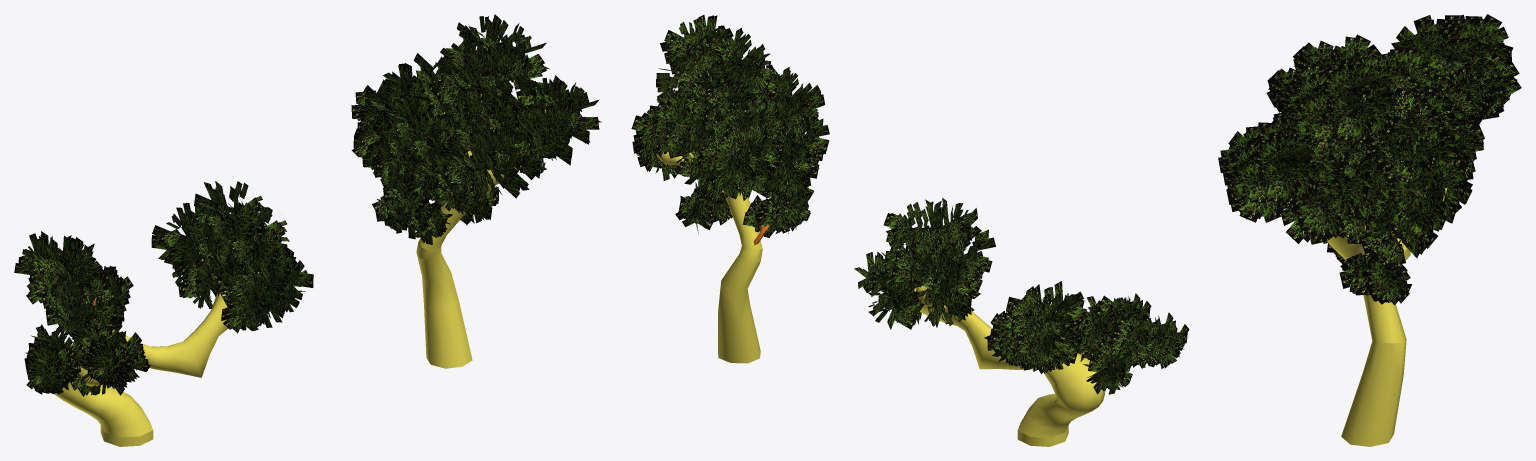
The model's file is 6_Arboles_Particulas_Multicolor.fbx.
3 views of the same model, side by side, from view 1: azimuth 30°, elevation 25°; view 2: azimuth 150°, elevation 25°; view 3: azimuth 270°, elevation 25° (orthographic). The views are drawn at different scales.
Visible parts, largest first — view 1: 100_Verde_Tronco2.003; view 2: 100_Verde_Tronco2.003; view 3: 100_Verde_Tronco2.003.
Part boxes in pixels (x1,y1,x2,y2): 100_Verde_Tronco2.003: [14, 14, 601, 446]; 100_Verde_Tronco2.003: [631, 15, 1189, 446]; 100_Verde_Tronco2.003: [1218, 14, 1521, 446].
Size of the model in its own units: 1597 by 944 by 645.
